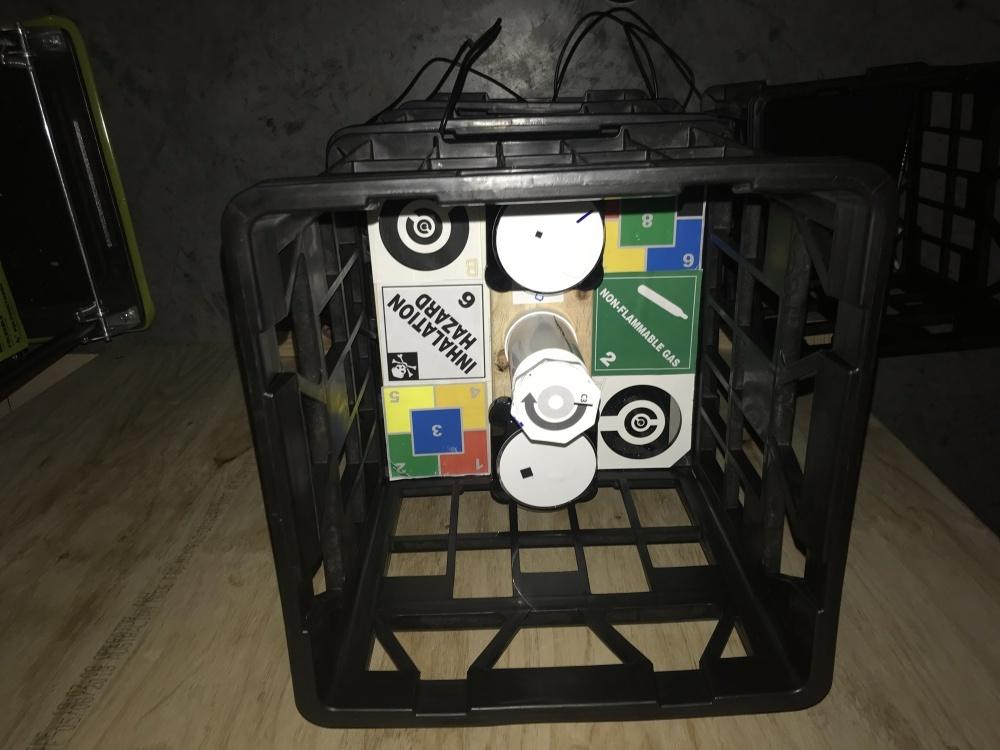non-flammable-gas: (594, 271, 704, 373)
poison: (372, 280, 488, 391)
